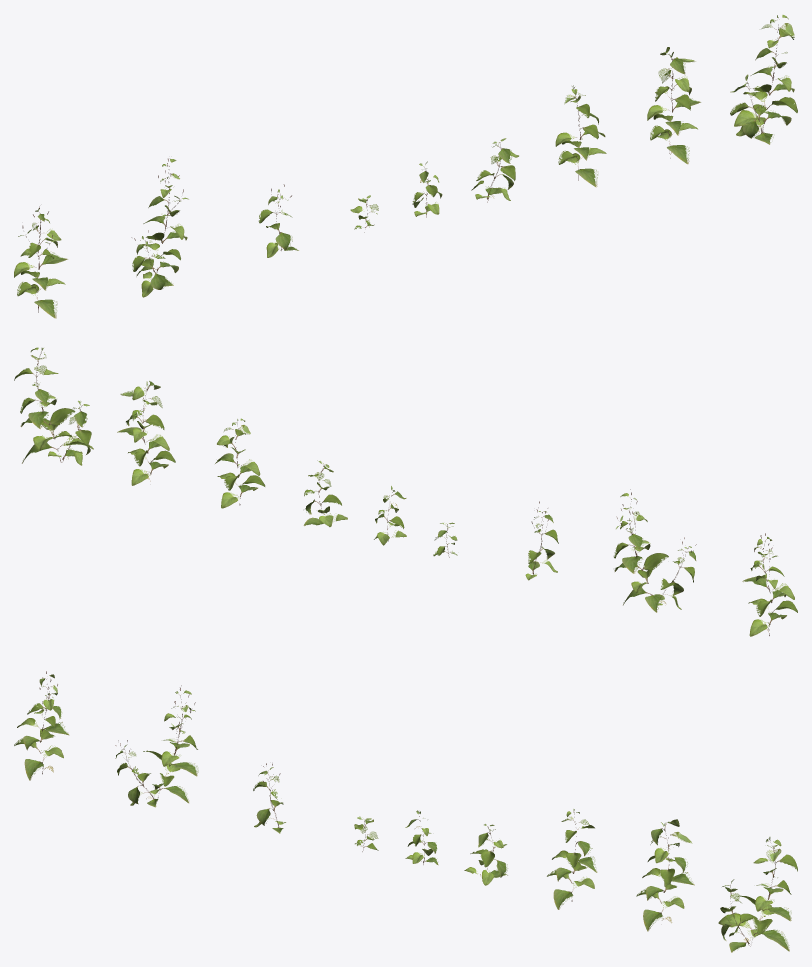
Rendered from shrub_01.glb.
3 renders of one model, top to bottom at view 1: azimuth 30°, elevation 25°; view 2: azimuth 150°, elevation 25°; view 3: azimuth 330°, elevation 25°, orthographic. The views are drawn at different scales.
Parts seen in each view (by area): view 1: shrub_01_a; view 2: shrub_01_a; view 3: shrub_01_a.
Part boxes in pixels (box(x1,y1,x2,y2)): shrub_01_a: box(14, 15, 797, 318); shrub_01_a: box(14, 347, 797, 636); shrub_01_a: box(14, 671, 797, 952).
Bounding box in the file's own units: 2.59 × 0.396 × 0.2184.
1 material, 1 textured.
